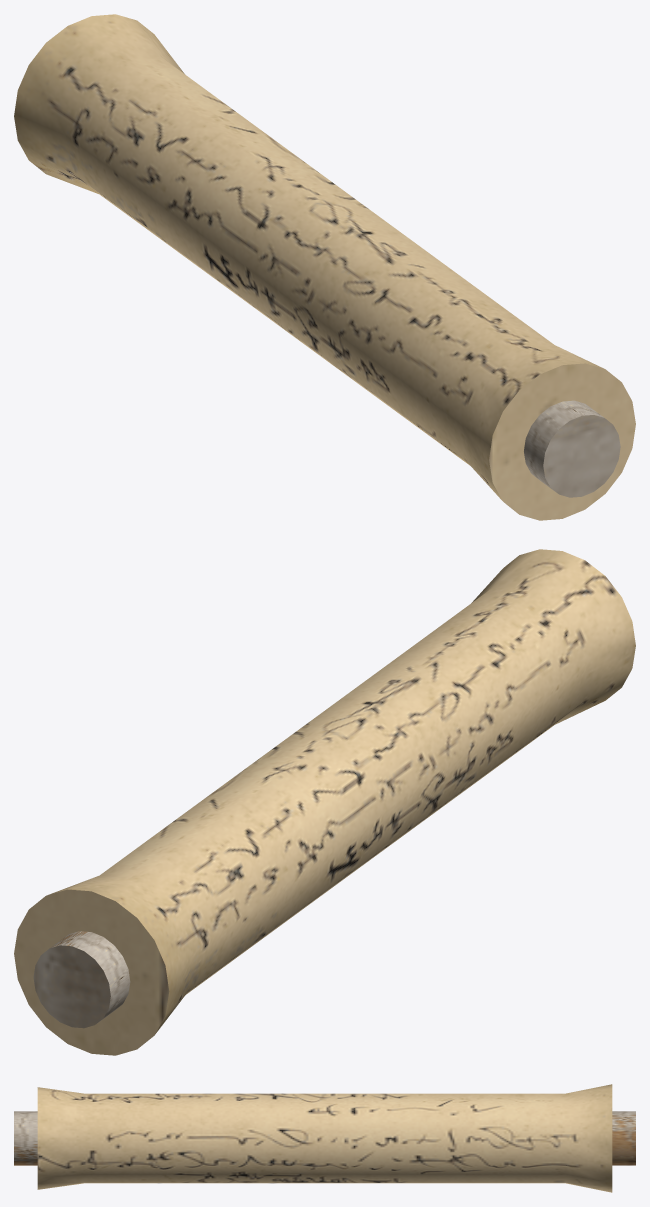
File: scroll2.fbx
3 renders of one model, top to bottom at view 1: azimuth 30°, elevation 25°; view 2: azimuth 150°, elevation 25°; view 3: azimuth 270°, elevation 25°, orthographic. The views are drawn at different scales.
Visible parts, largest first — view 1: scroll2; view 2: scroll2; view 3: scroll2.
Boxes of the visible parts, bbox=[...] form: scroll2: bbox=[14, 14, 635, 520]; scroll2: bbox=[14, 549, 635, 1055]; scroll2: bbox=[14, 1084, 635, 1192].
Bounding box in the file's own units: 3.73 × 3.73 × 21.23.
1 material, 1 textured.
